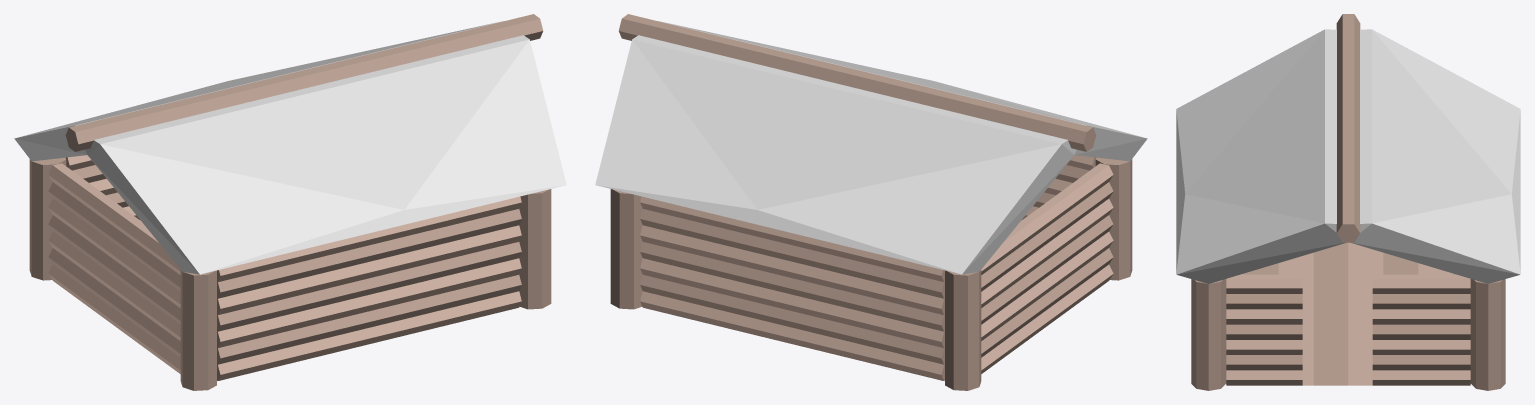
File: LogCabin.fbx
The picture shows the model from 3 angles, left to right: view 1: azimuth 30°, elevation 25°; view 2: azimuth 150°, elevation 25°; view 3: azimuth 270°, elevation 25°; orthographic projection. The views are drawn at different scales.
Visible parts, largest first — view 1: Log Cabin; view 2: Log Cabin; view 3: Log Cabin.
Boxes of the visible parts, bbox=[...] form: Log Cabin: bbox=[14, 14, 566, 390]; Log Cabin: bbox=[595, 14, 1147, 390]; Log Cabin: bbox=[1176, 14, 1520, 390].
Size of the model in its own units: 8.43 by 3.65 by 5.84.
